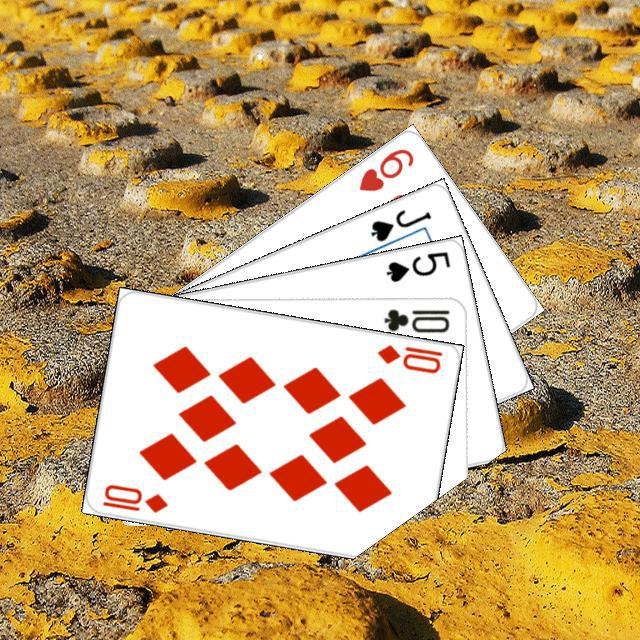10c: (379, 304, 451, 335)
10d: (372, 339, 444, 375), (97, 479, 169, 515)
5s: (381, 246, 452, 284)
6h: (353, 143, 416, 194)
Js: (366, 204, 433, 244)
